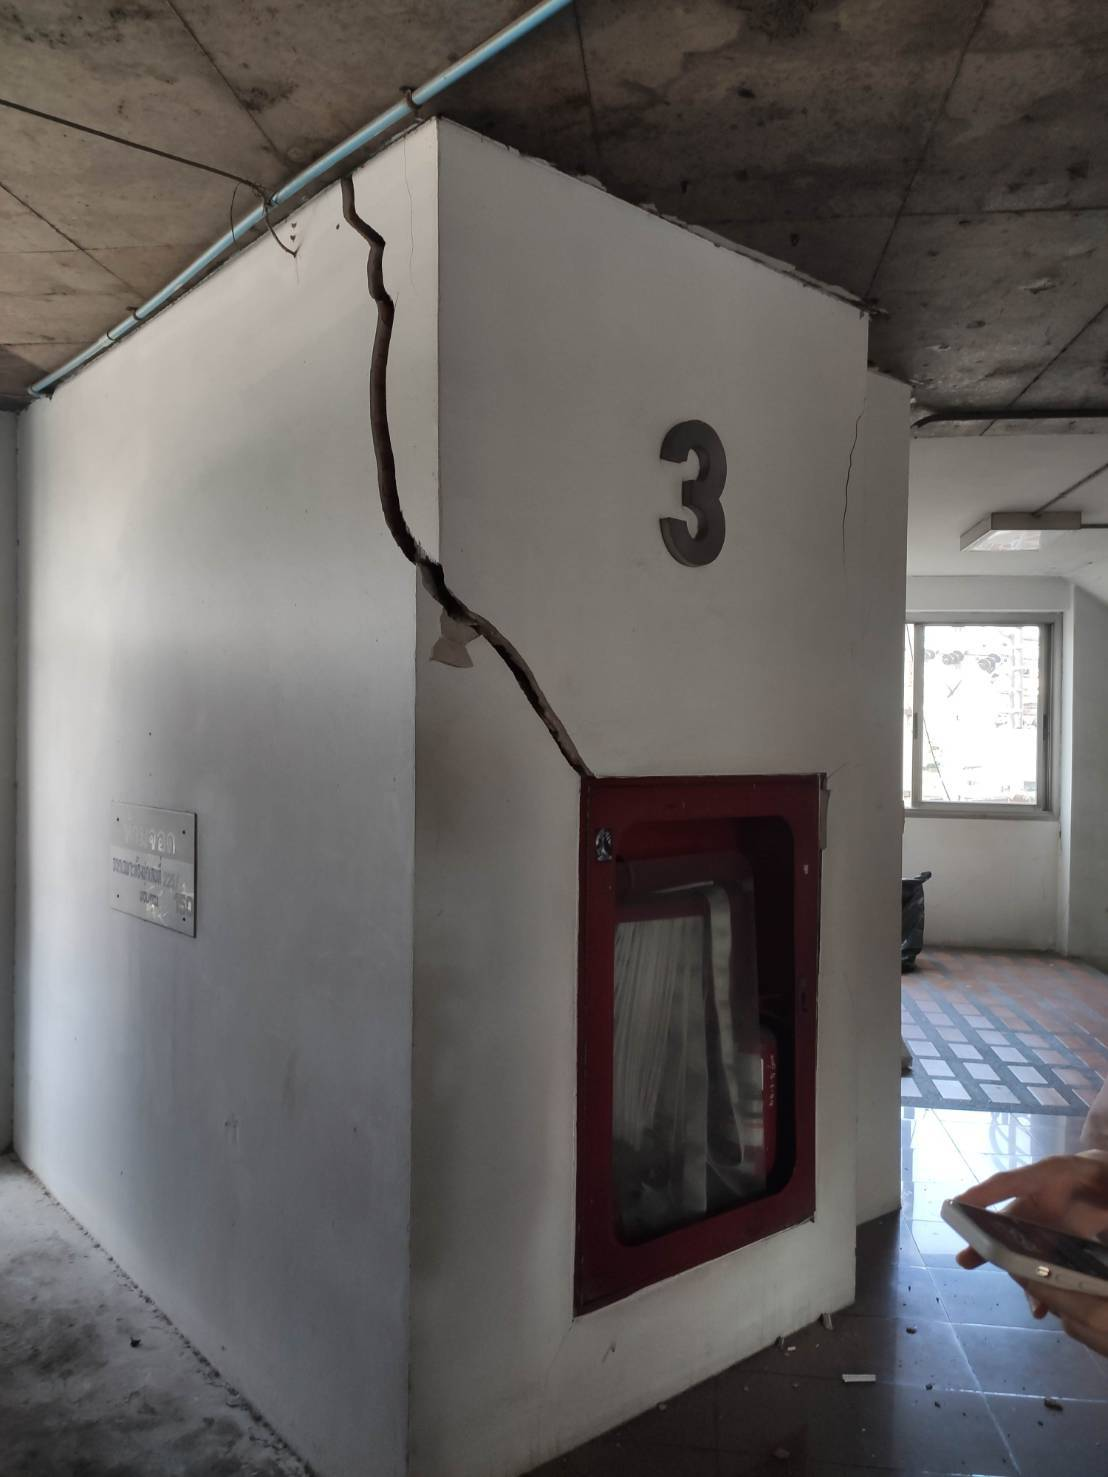High: (237, 129, 659, 866)
